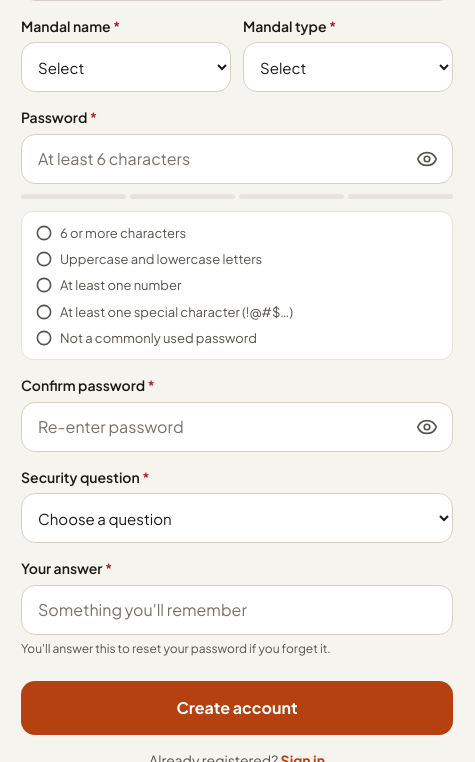
Test: Register form validation › shows per-field errors with accessible wiring
(page scrolled)
Click the button "Create account" at (237, 708), box [21, 682, 453, 736]
(page scrolled)
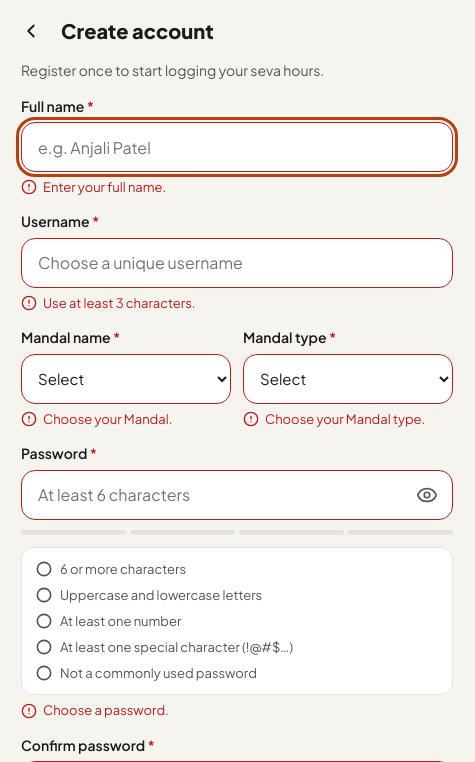
Now the text "Enter your full name." is shown, box [21, 179, 166, 195]
Now the text "Choose your Mandal." is shown, box [21, 411, 172, 427]
